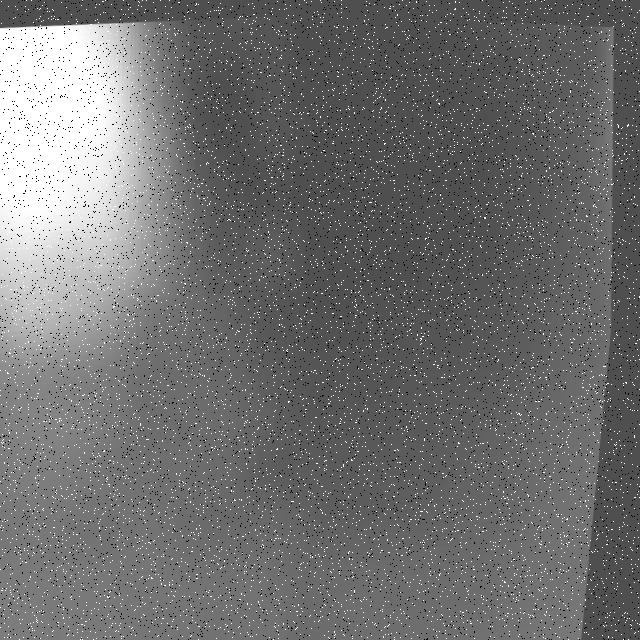person: (1, 12, 218, 486)
